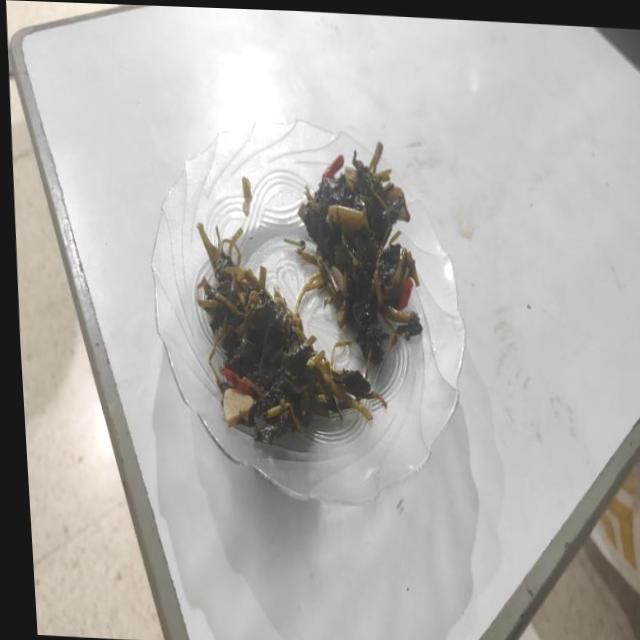tumis_kangkung: (196, 223, 386, 444), (286, 142, 421, 378)
